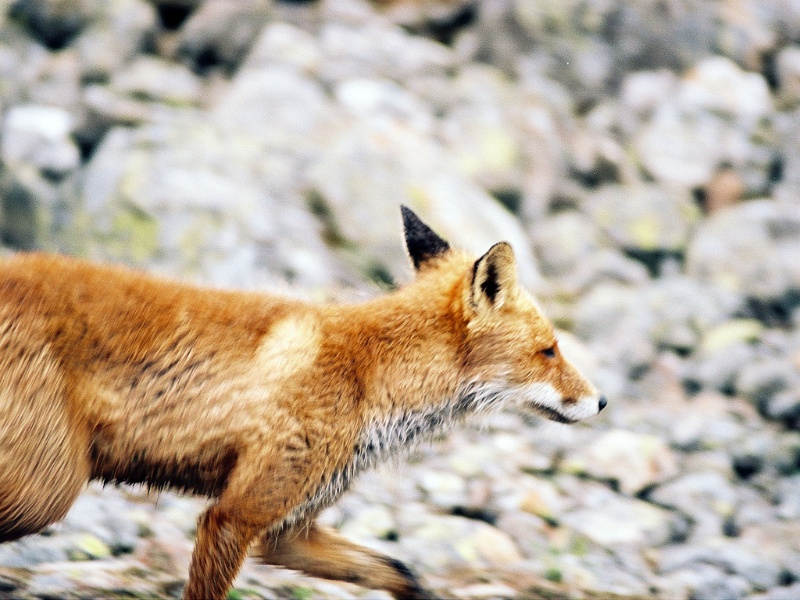fox: (1, 197, 609, 599)
